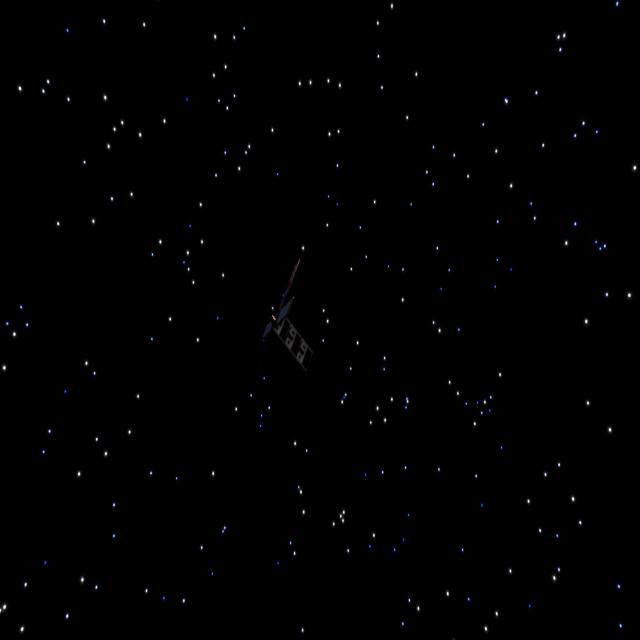satellite: (250, 241, 311, 369)
